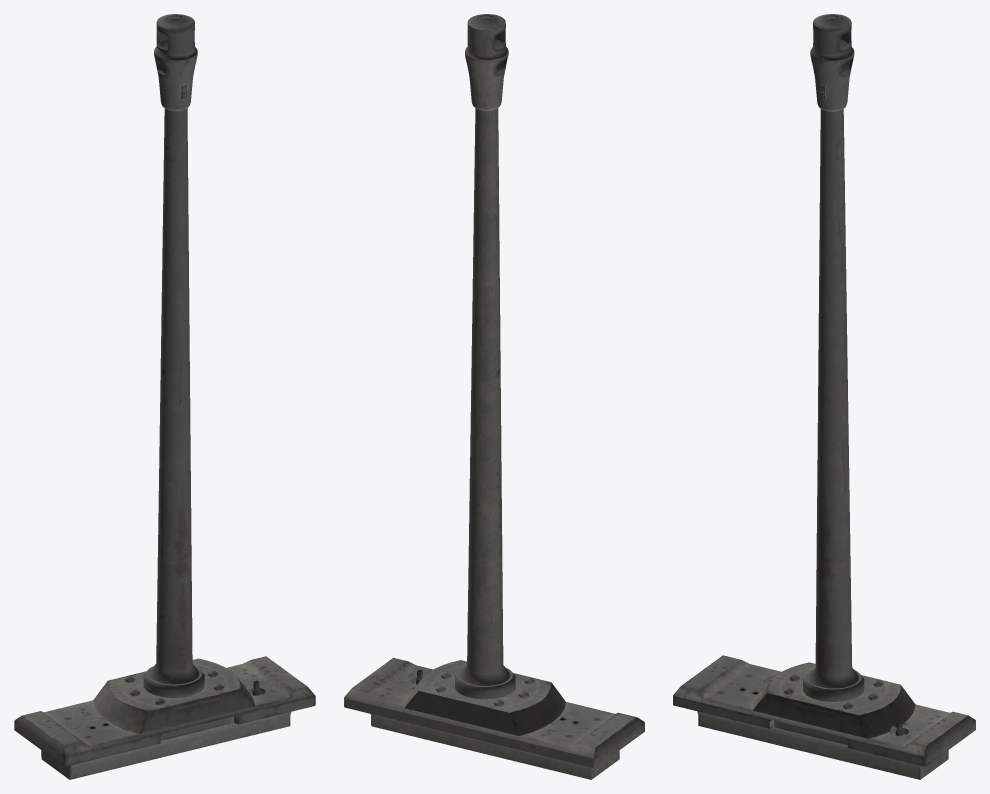
The model's file is Gun_01.glb.
The picture shows the model from 3 angles, left to right: view 1: azimuth 30°, elevation 25°; view 2: azimuth 150°, elevation 25°; view 3: azimuth 330°, elevation 25°; orthographic projection.
Parts seen in each view (by area): view 1: set_0_group_0; view 2: set_0_group_0; view 3: set_0_group_0.
Part boxes in pixels (x1,y1,x2,y2): set_0_group_0: (14,14,315,779); set_0_group_0: (344,14,644,779); set_0_group_0: (673,14,975,779).
Bounding box in the file's own units: 1.6 × 4.4 × 0.5606.
1 material, 1 textured.
